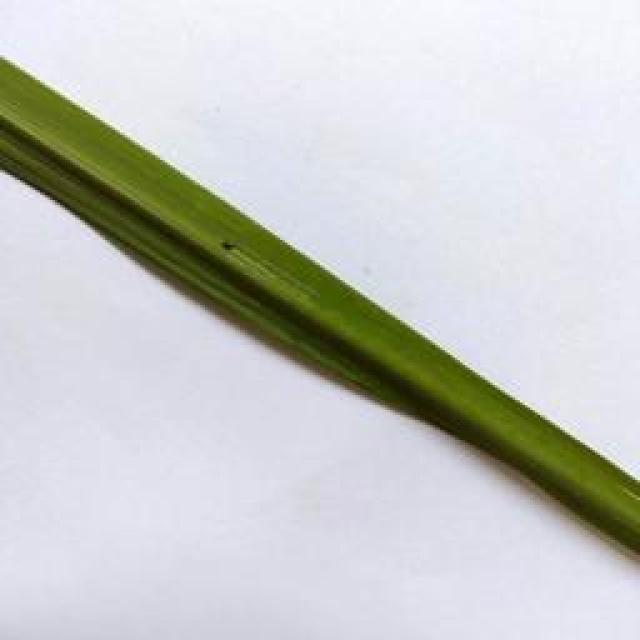Healthy-Plant: (0, 58, 640, 561)
